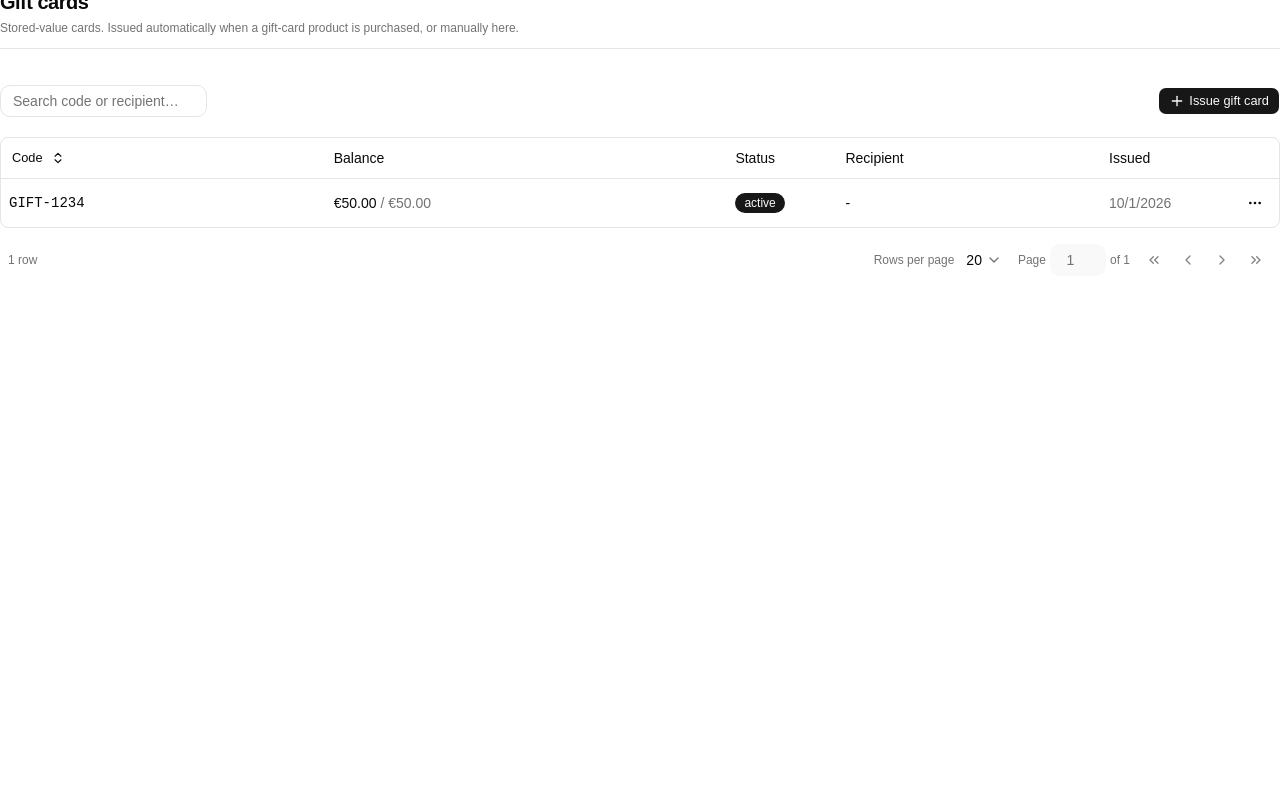
it: GiftCardsList disable › closes once the disable goes through
Press the mouse on the button named "Gift card actions" at (1255, 202), box [1239,186,1271,218]
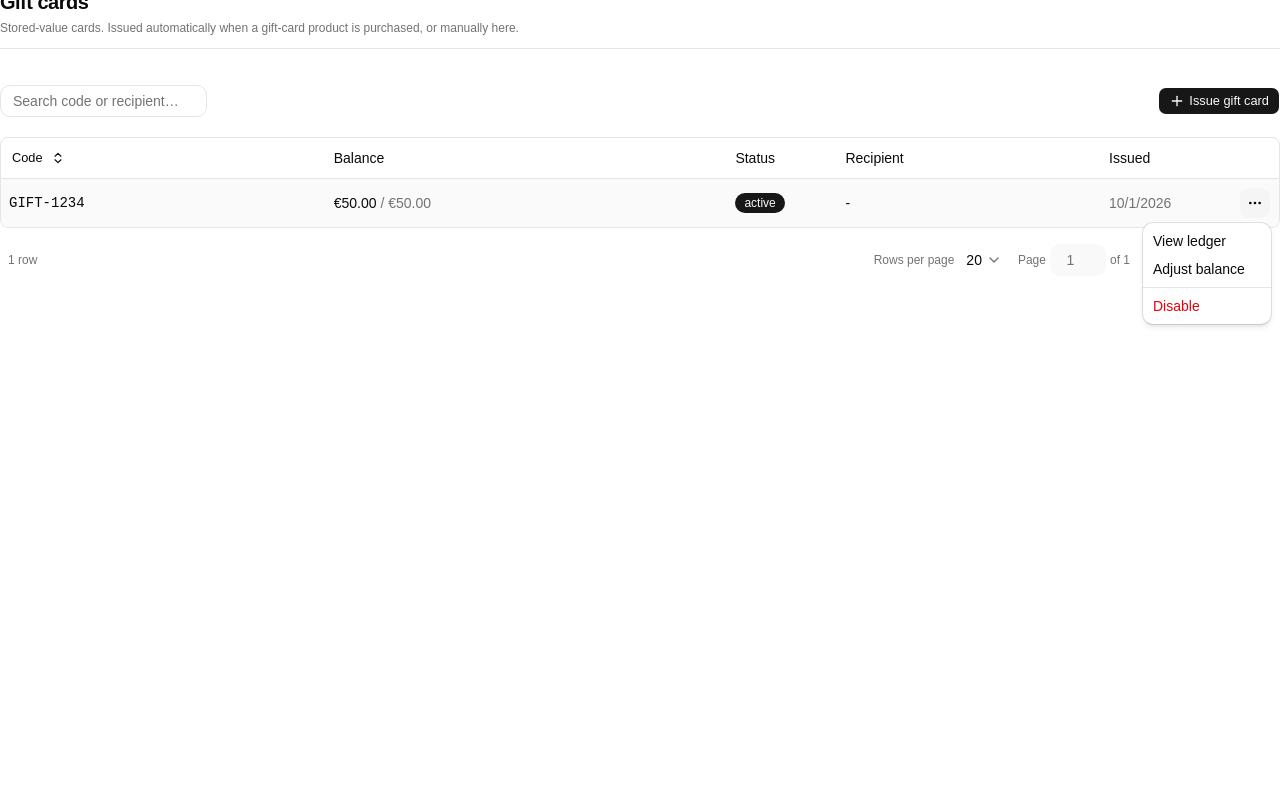
Click the menu item "Disable" at (1176, 306), box [1153,298,1200,314]
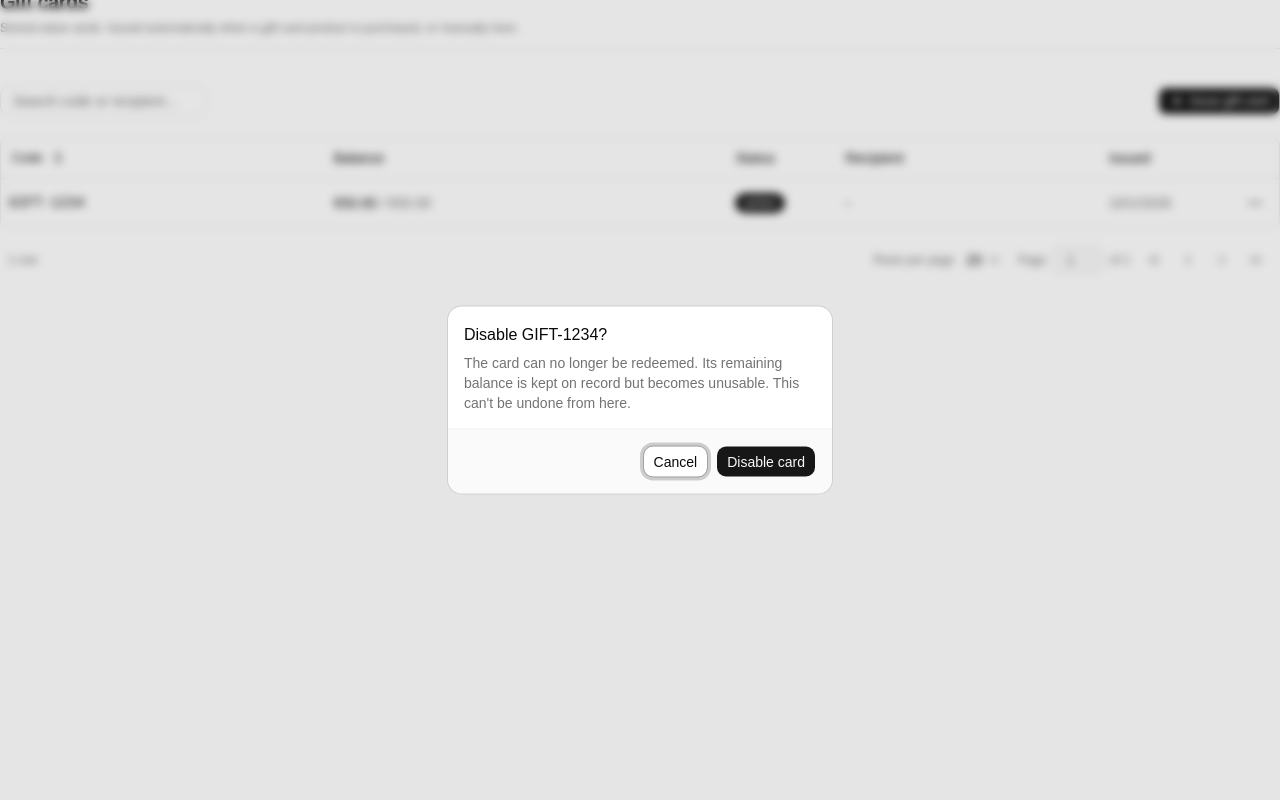
Click the button "Disable card" at (766, 462), box [716,446,816,478]
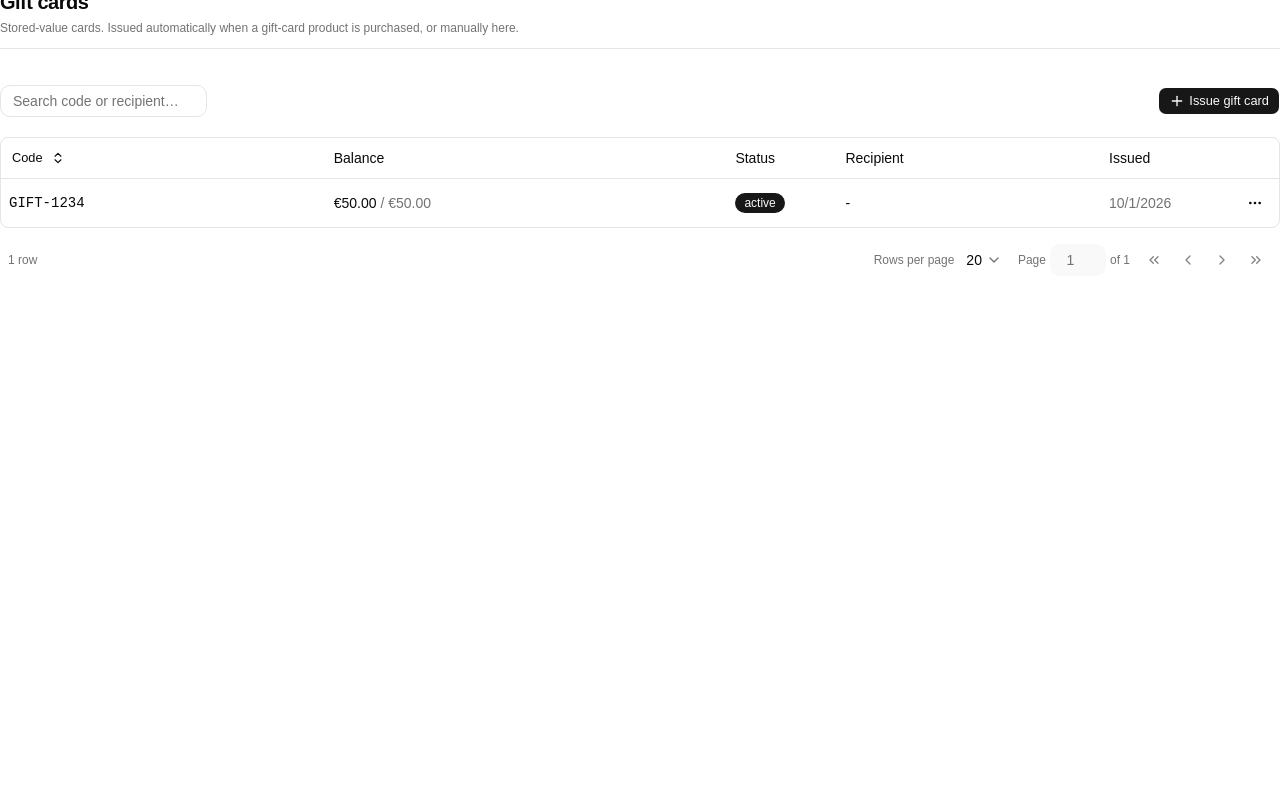
Result: the dialog is gone
